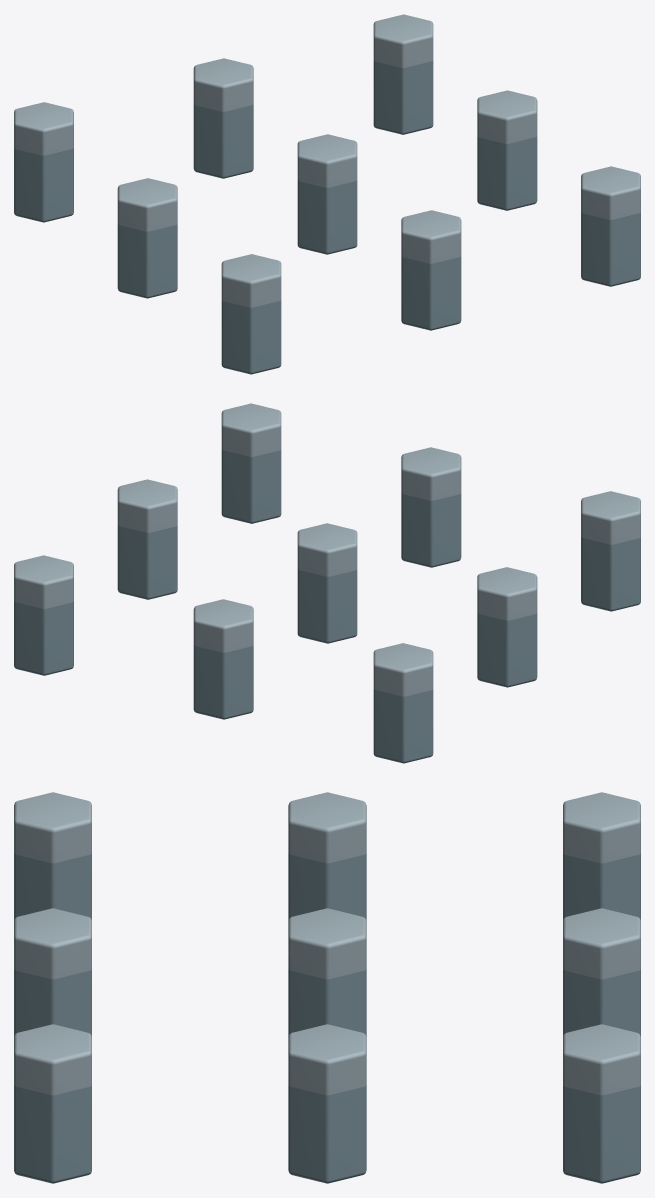
Rendered from Props.fbx.
3 views of the same model, one above another, from view 1: azimuth 30°, elevation 25°; view 2: azimuth 150°, elevation 25°; view 3: azimuth 270°, elevation 25° (orthographic). The views are drawn at different scales.
Visible parts, largest first — view 1: 六面体 (×9); view 2: 六面体 (×9); view 3: 六面体 (×9).
Boxes of the visible parts, bbox=[...] form: 六面体 (×9): bbox=[14, 14, 640, 374]; 六面体 (×9): bbox=[14, 403, 640, 763]; 六面体 (×9): bbox=[14, 792, 640, 1183].
Bounding box in the file's own units: 23.28 × 5 × 22.85.
